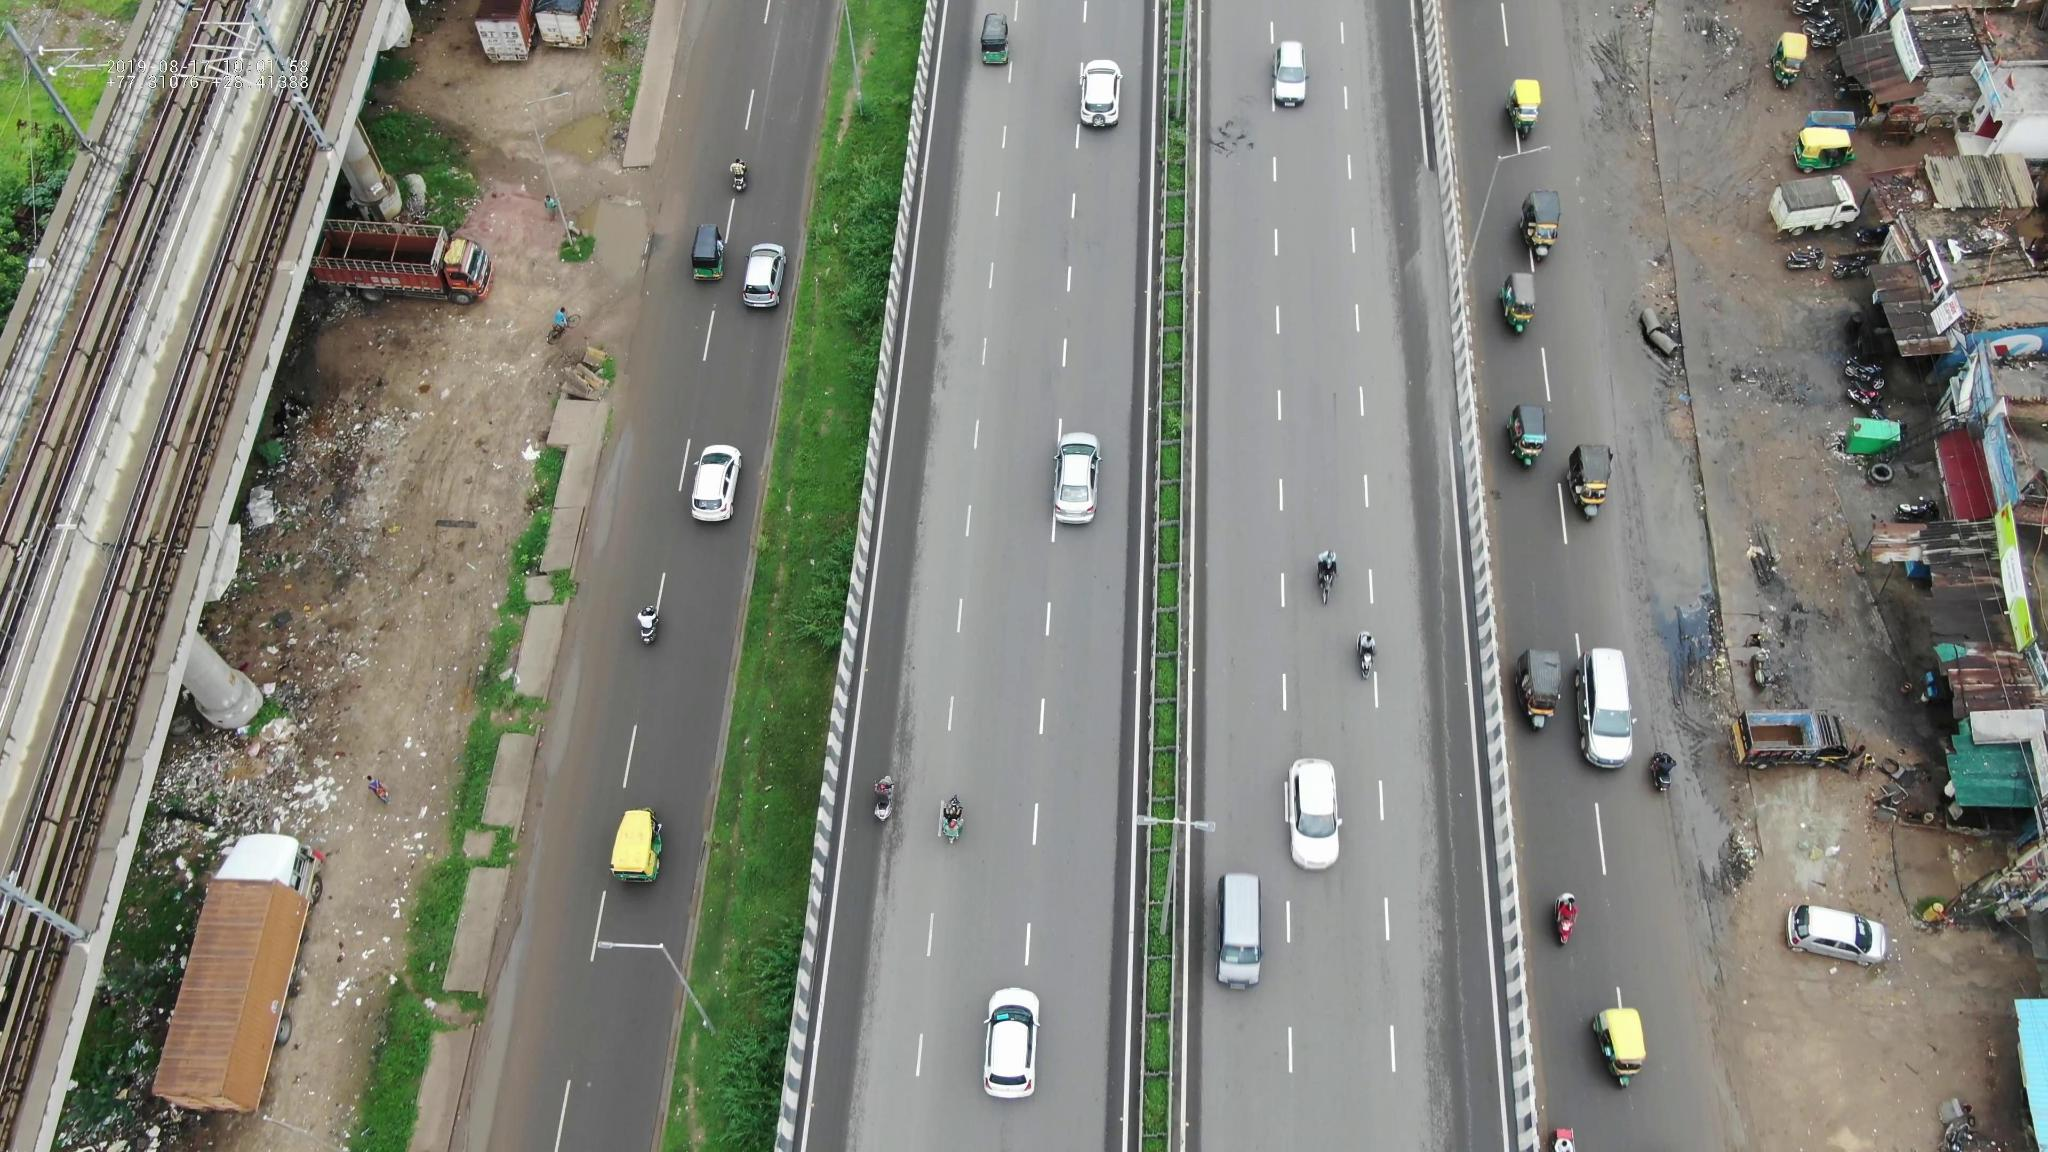Muddy_road: (1412, 167, 1452, 364)
Waterlogging: (1611, 392, 1729, 665), (1440, 558, 1497, 1059), (1566, 20, 1670, 191)
